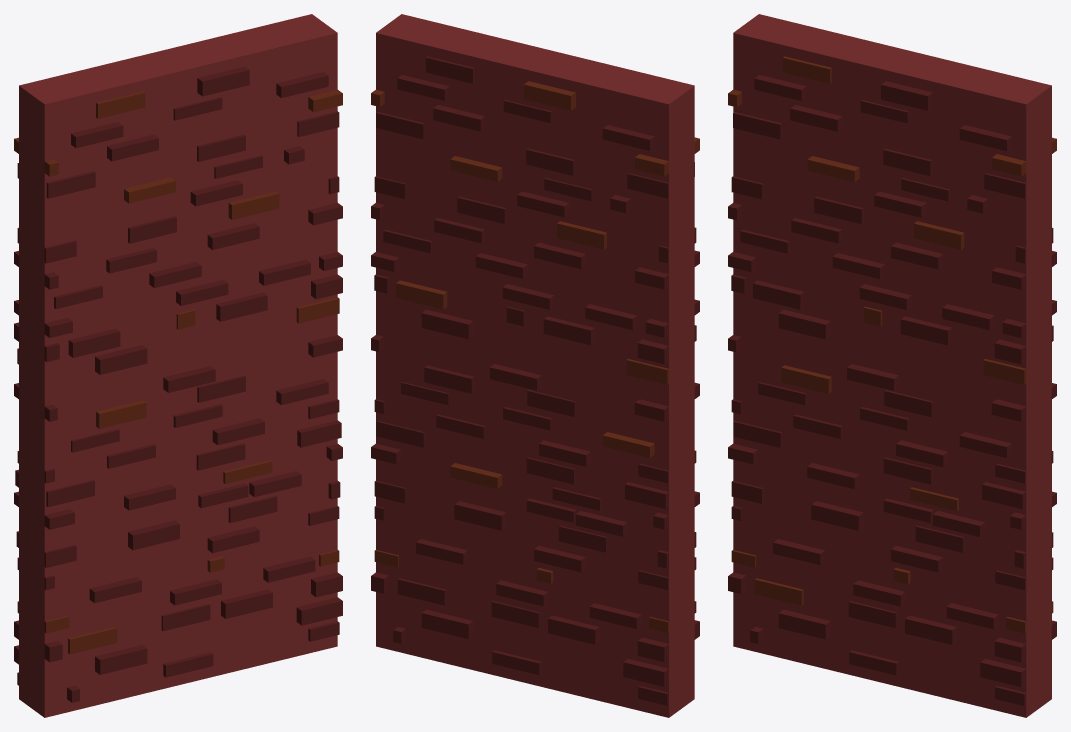
Rendered from BrickWall.glb.
3 views of the same model, side by side, from view 1: azimuth 30°, elevation 25°; view 2: azimuth 150°, elevation 25°; view 3: azimuth 330°, elevation 25° (orthographic).
Parts seen in each view (by area): view 1: wall_brick; view 2: wall_brick; view 3: wall_brick.
Boxes of the visible parts, x1,y1,x2,y2 form: wall_brick: [14, 14, 342, 717]; wall_brick: [371, 14, 699, 717]; wall_brick: [728, 14, 1056, 717].
Size of what is drawn, in the model's own units: 2 by 4 by 0.4206.
1 material, 1 textured.
